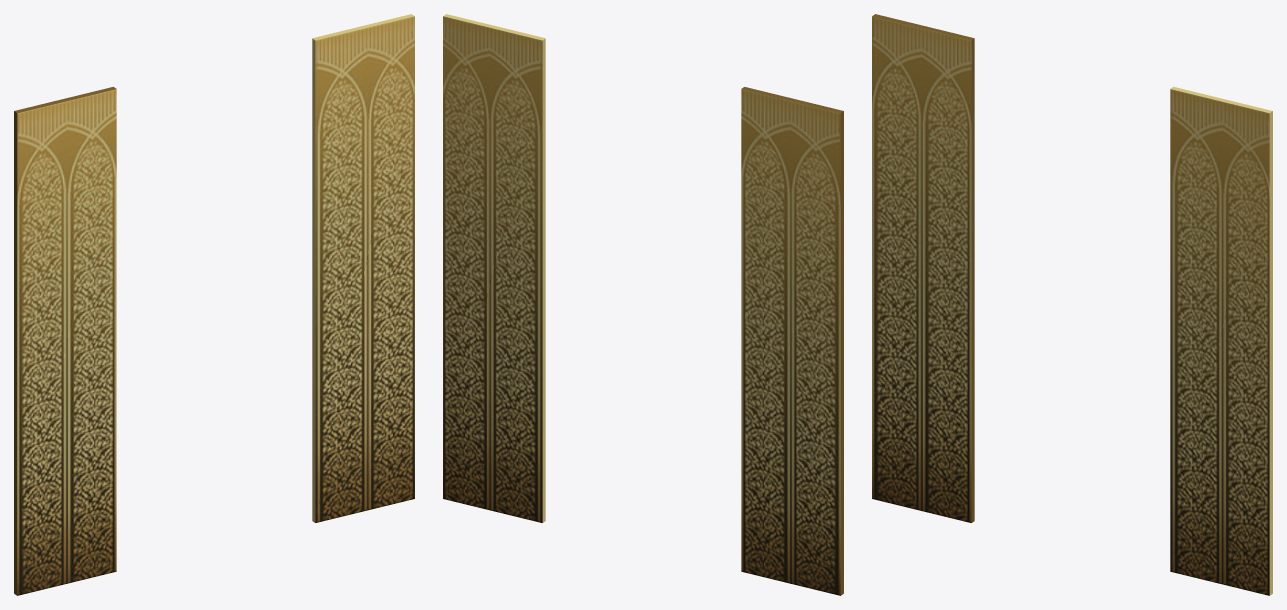
Rendered from landing_door_TM023.glb.
3 views of the same model, side by side, from view 1: azimuth 30°, elevation 25°; view 2: azimuth 150°, elevation 25°; view 3: azimuth 330°, elevation 25° (orthographic).
Parts seen in each view (by area): view 1: Landing_Door_L, Landing_Door_R; view 2: Landing_Door_L, Landing_Door_R; view 3: Landing_Door_L, Landing_Door_R.
Boxes of the visible parts, bbox=[...] form: Landing_Door_L: bbox=[14, 87, 116, 595]; Landing_Door_R: bbox=[312, 14, 414, 522]; Landing_Door_L: bbox=[741, 87, 843, 595]; Landing_Door_R: bbox=[443, 14, 545, 522]; Landing_Door_L: bbox=[872, 14, 974, 522]; Landing_Door_R: bbox=[1170, 87, 1272, 595].
Bounding box in the file's own units: 1.81 × 2.1 × 0.025.
Materials: 1 (1 with a texture image).
